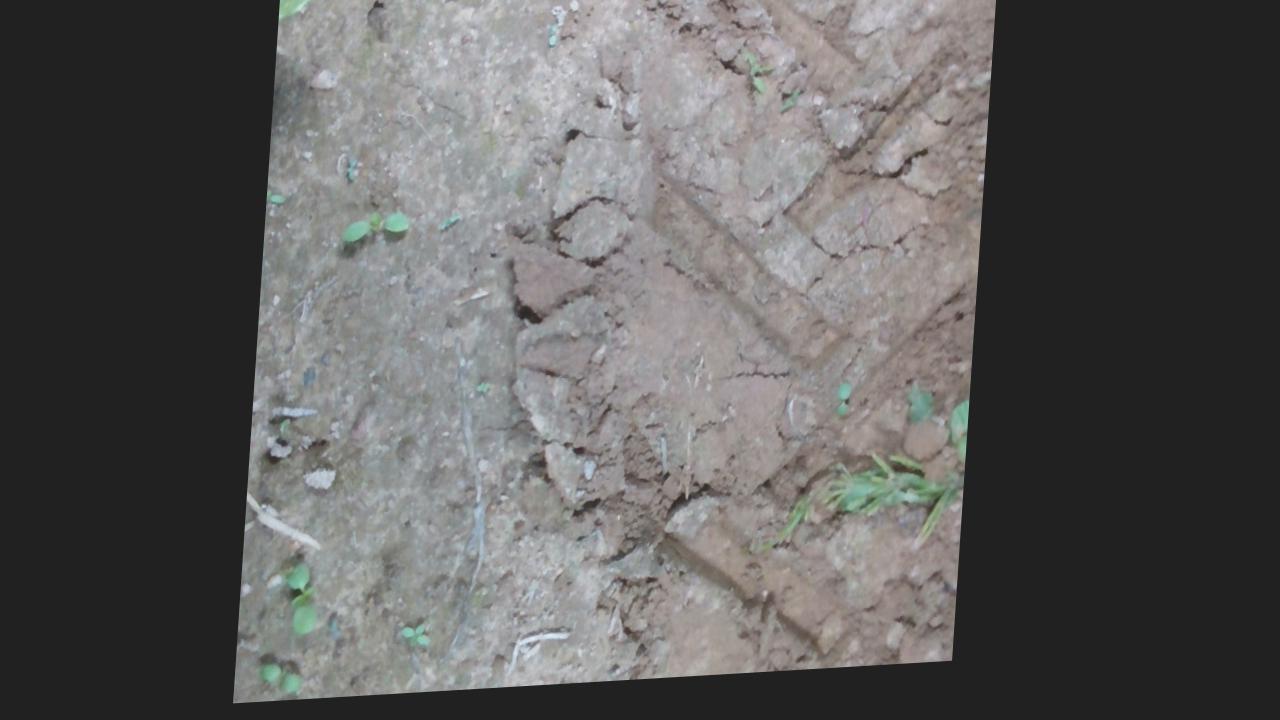weed: (291, 561, 332, 639), (344, 213, 415, 246), (270, 663, 316, 698), (409, 627, 444, 653), (840, 388, 860, 428), (482, 385, 500, 399)
